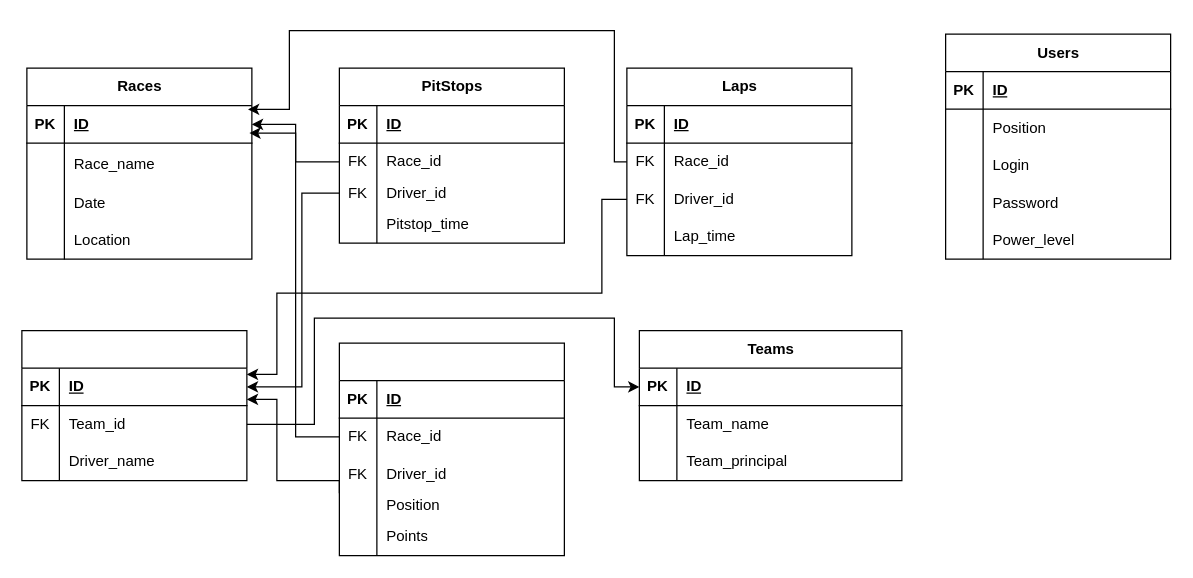
The diagram is 1193 pixels wide and 578 high, and some of its shapes have lost their labels. The shapes that lost their labels are listed below. From the top down, each one's box as (x1, y1, x2, y2) in pixels, then its label:
(21, 329, 247, 481): Drivers
(338, 342, 564, 556): Standings
